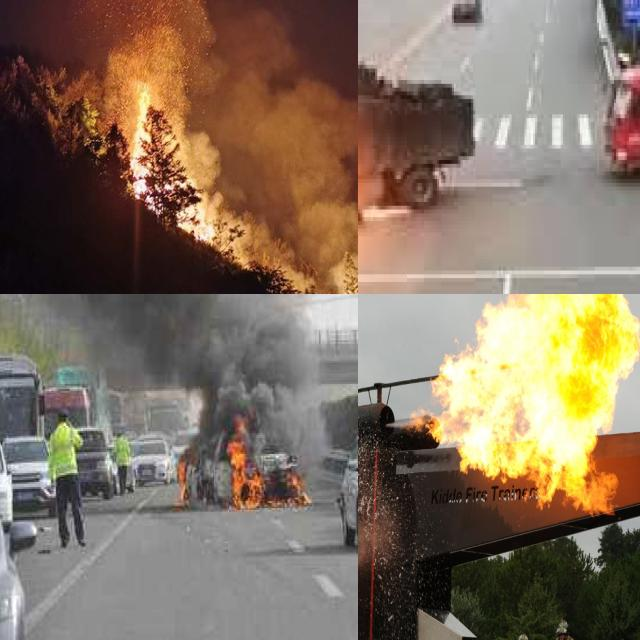fire: (424, 294, 640, 512), (126, 82, 219, 258), (177, 412, 307, 519)
smoke: (0, 294, 358, 454), (221, 6, 358, 294), (69, 0, 218, 246)
